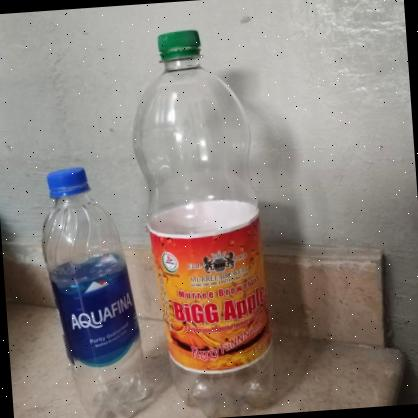bottle: (125, 27, 274, 418), (42, 162, 149, 418)
cap: (160, 28, 206, 66), (45, 167, 91, 202)
label: (157, 221, 270, 373), (57, 266, 144, 360)
